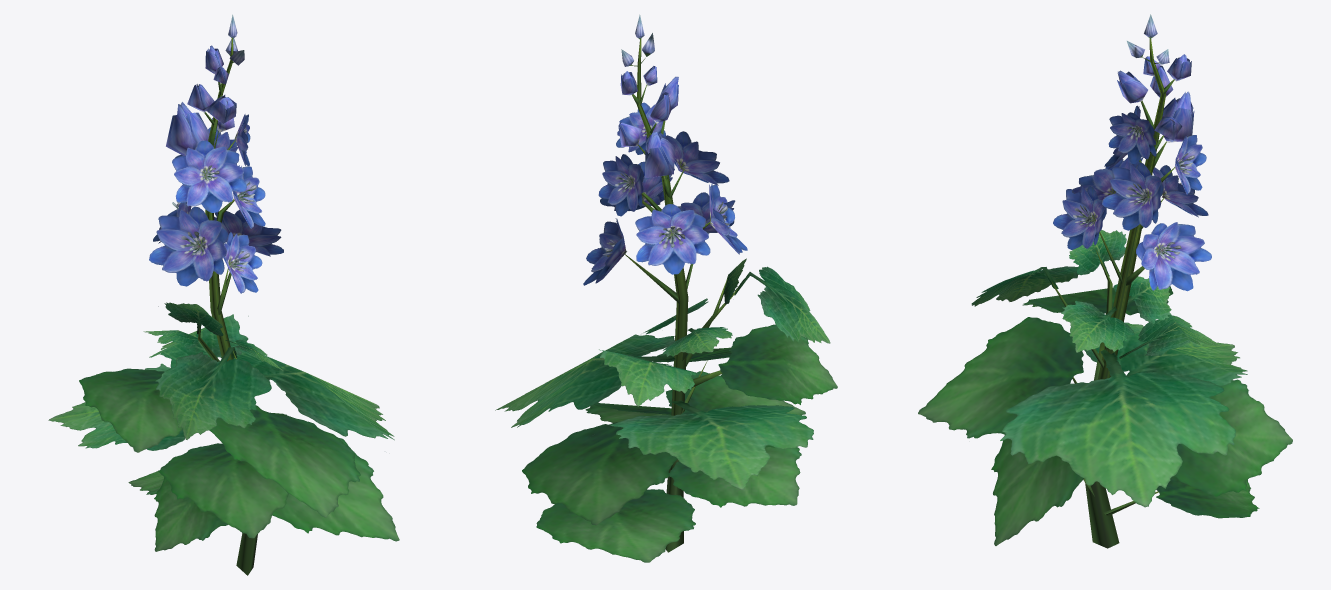
File: Scene_cao_019.FBX
3 views of the same model, side by side, from view 1: azimuth 30°, elevation 25°; view 2: azimuth 150°, elevation 25°; view 3: azimuth 270°, elevation 25° (orthographic). The views are drawn at different scales.
Parts seen in each view (by area): view 1: Scene_cao_019; view 2: Scene_cao_019; view 3: Scene_cao_019.
Boxes of the visible parts, box(x1,y1,x2,y2) form: Scene_cao_019: box(48, 14, 399, 575); Scene_cao_019: box(495, 14, 837, 562); Scene_cao_019: box(918, 14, 1292, 548).
Bounding box in the file's own units: 198 × 294 × 214.
